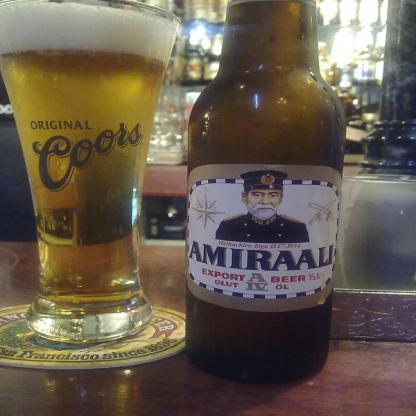drinking: (0, 0, 181, 343), (185, 0, 346, 383)
